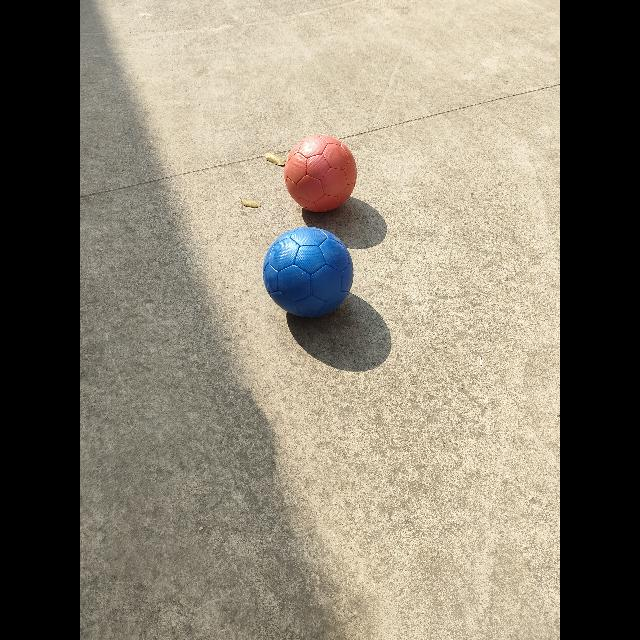B: (262, 227, 354, 321)
R: (283, 136, 358, 216)
